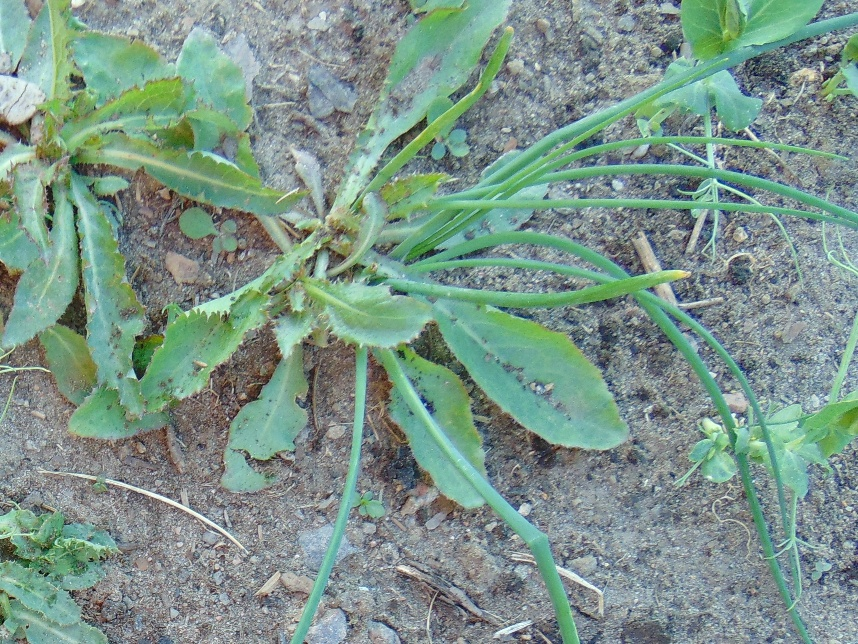crop: (682, 324, 858, 560), (651, 1, 827, 236), (790, 30, 858, 105), (823, 208, 858, 277)
weed: (132, 42, 614, 496), (1, 1, 281, 360), (1, 505, 111, 644)
